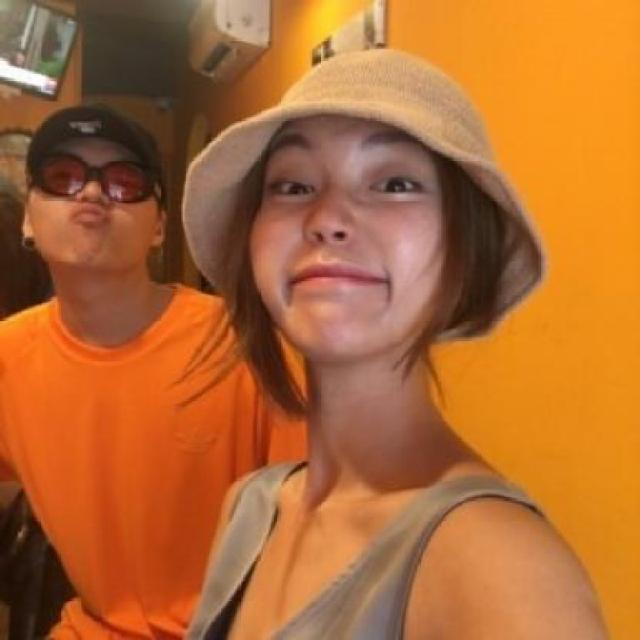hat: (181, 49, 546, 343), (26, 103, 165, 202)
